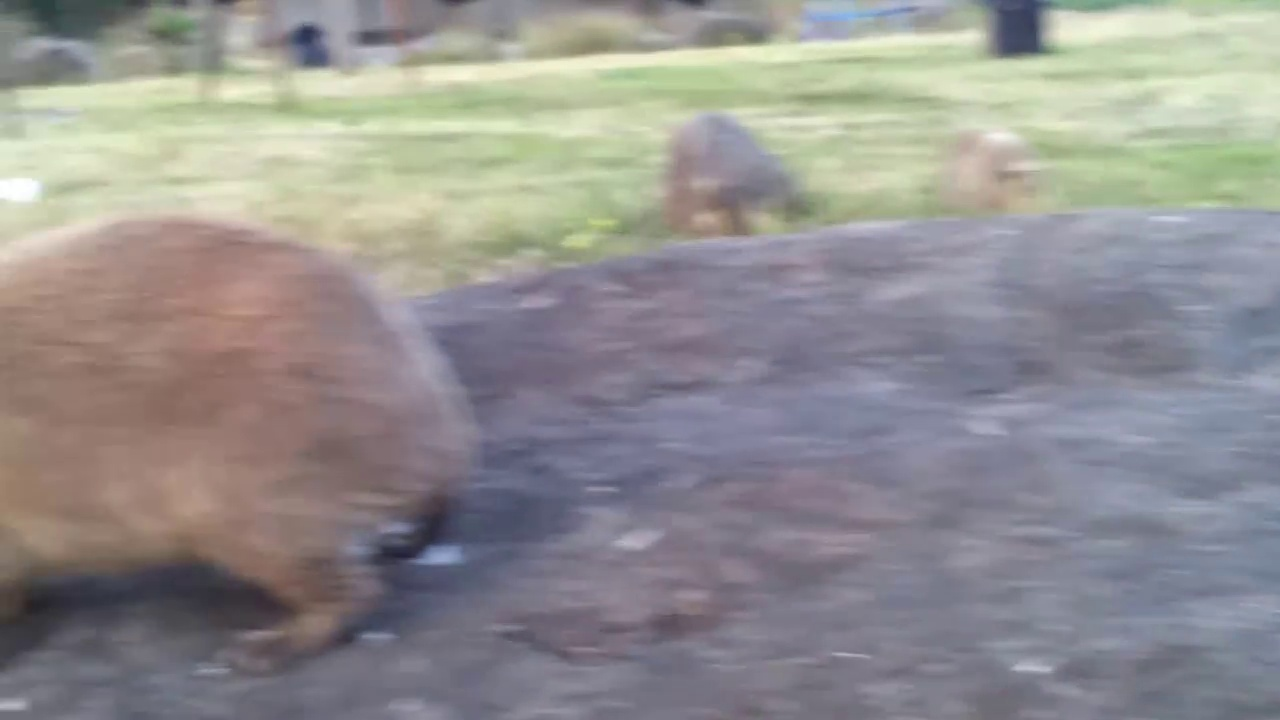Rock Hyrex: (1, 215, 474, 677)
